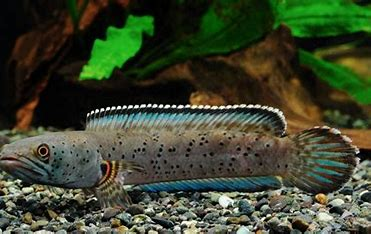Fish: (2, 101, 358, 205)
